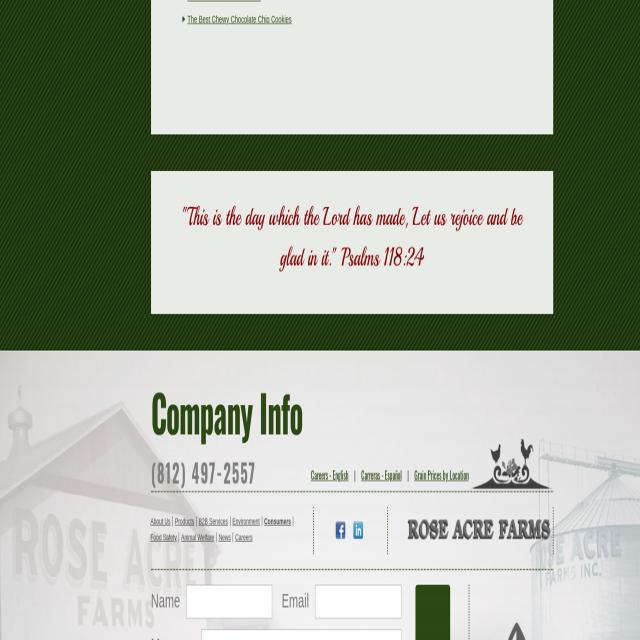button: (401, 504, 554, 558), (336, 522, 345, 540), (354, 522, 363, 540)
field: (186, 585, 272, 618), (315, 585, 401, 618)
